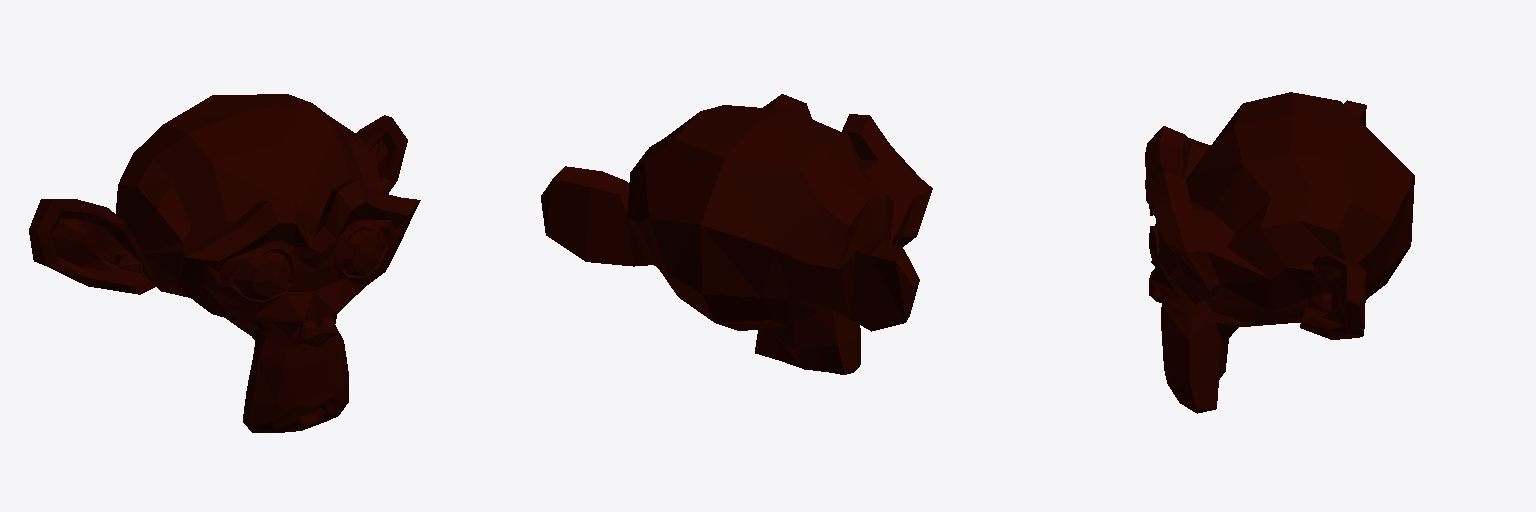
3 renders of one model, left to right at view 1: azimuth 30°, elevation 25°; view 2: azimuth 150°, elevation 25°; view 3: azimuth 270°, elevation 25°, orthographic.
Parts seen in each view (by area): view 1: モンキー; view 2: モンキー; view 3: モンキー.
Boxes of the visible parts, x1=… form: モンキー: x1=29, y1=94, x2=420, y2=432; モンキー: x1=541, y1=94, x2=932, y2=374; モンキー: x1=1145, y1=92, x2=1414, y2=413.
Size of the model in its own units: 2.73 by 1.97 by 1.7.